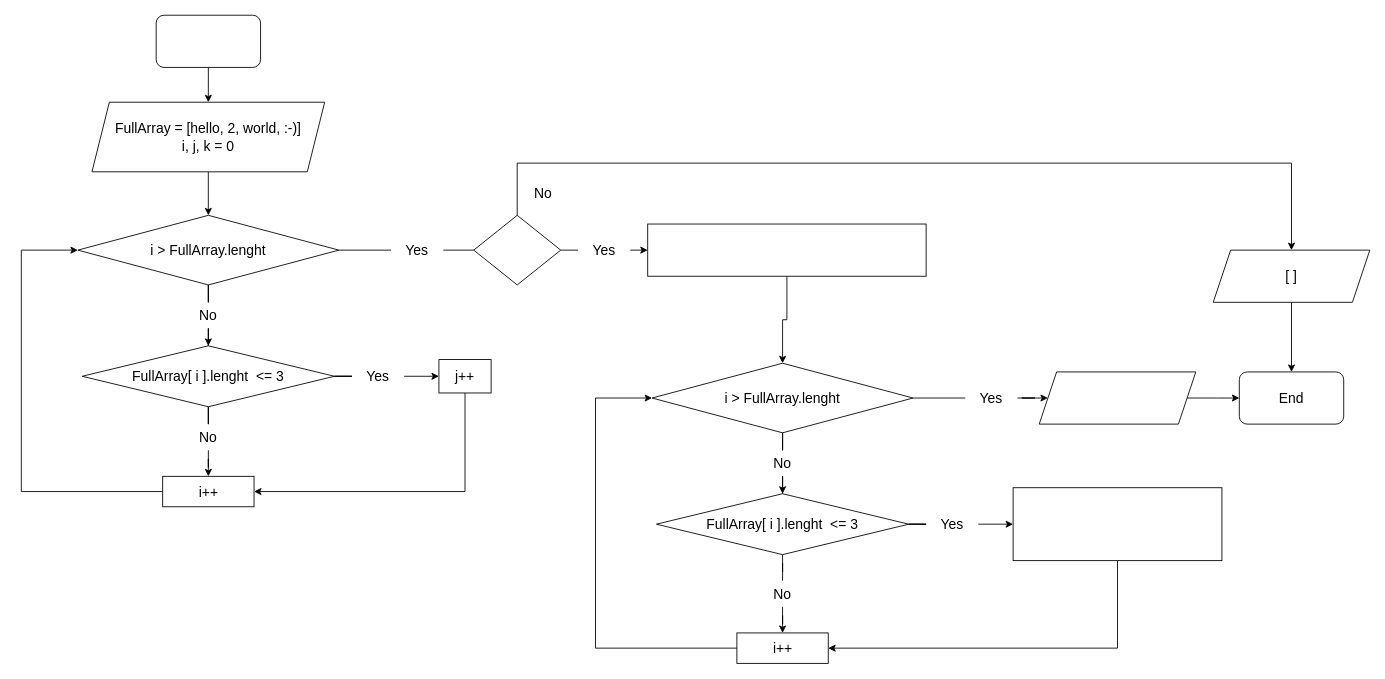
Image size: 1385x679. Some labels were removed from this diagram. Here are the shapes that lost their labels. From the top down, the box of each, then its label:
(155, 14, 261, 67): Begin
(473, 214, 561, 285): j > 0
(647, 223, 926, 276): Сreate array ShortArray[] which size = j i = 0
(1038, 371, 1196, 424): ShortArray[]
(1012, 487, 1222, 561): ShortArray[ k ] = FullArray[ i ] k++
